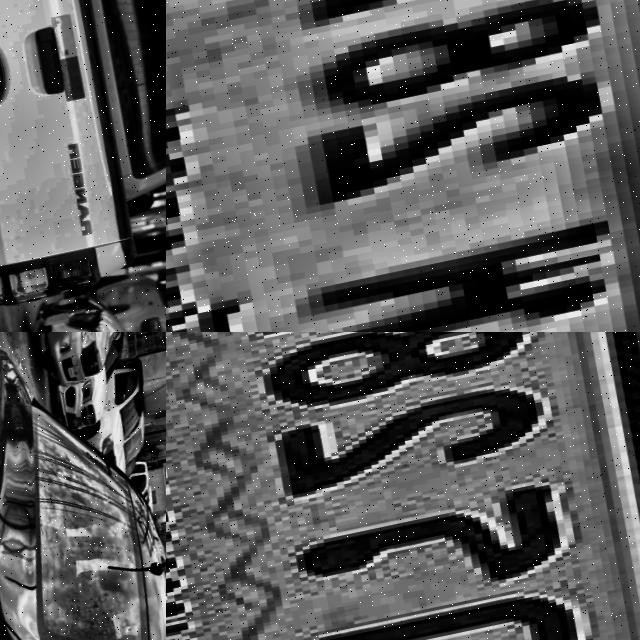license-plate: (166, 0, 640, 332), (166, 332, 640, 640), (62, 363, 81, 380), (69, 416, 83, 428)
